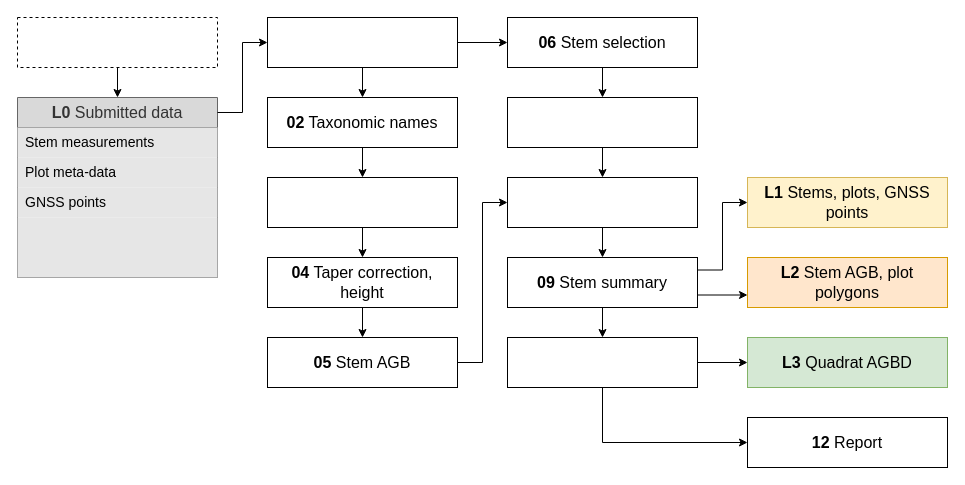
Some shapes in this 965 by 485 pixel diagram are drawn without their labels. Each missing label, with the box of its shape:
01 Formatted tables: (266, 16, 458, 68)
03 Wood density: (266, 176, 458, 228)
07 Plot polygons, quadrats: (506, 96, 698, 148)
08 Monte Carlo error propagation: (506, 176, 698, 228)
10 Quadrat summary: (506, 336, 698, 388)
Optional: taxonomy, height, wood density, repeat diameter, subplots: (17, 217, 217, 277)
Quality control (treeInvQC): (16, 16, 218, 68)
